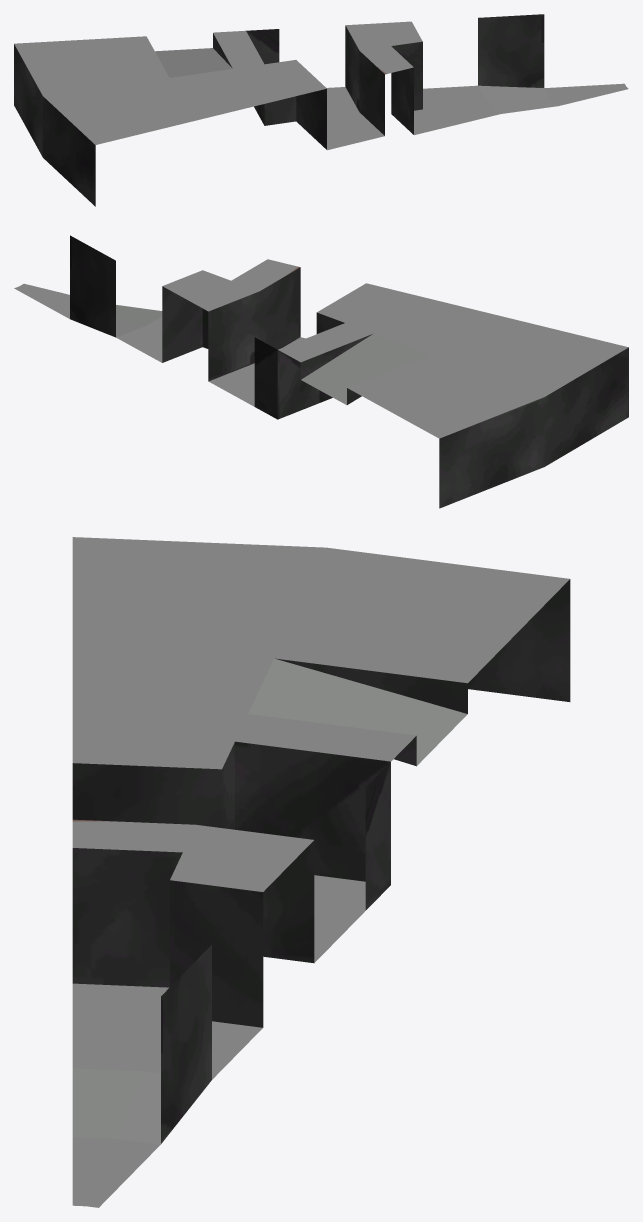
The model's file is bottom_13.obj.
The picture shows the model from 3 angles, top to bottom: view 1: azimuth 30°, elevation 25°; view 2: azimuth 150°, elevation 25°; view 3: azimuth 270°, elevation 25°; orthographic projection. The views are drawn at different scales.
Parts seen in each view (by area): view 1: Cylinder.016; view 2: Cylinder.016; view 3: Cylinder.016.
Part boxes in pixels (<box>): Cylinder.016: <box>14,14,628,206</box>; Cylinder.016: <box>14,235,628,508</box>; Cylinder.016: <box>72,537,570,1207</box>.
Size of the model in its own units: 36.36 by 4.8 by 14.62.
